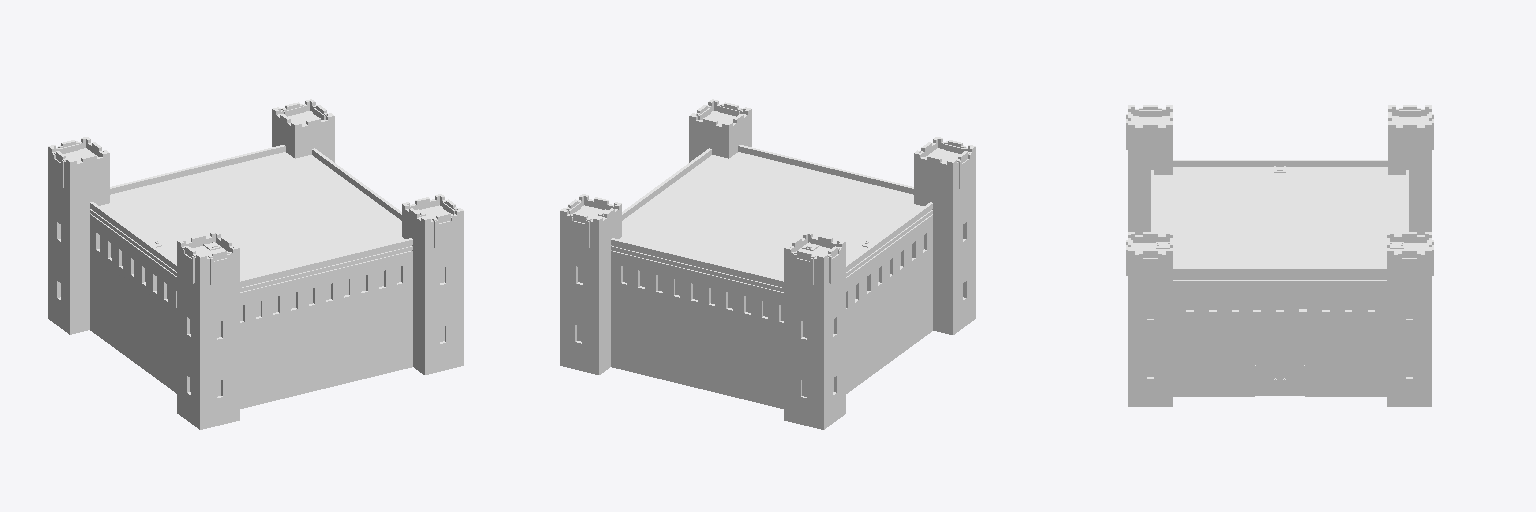
The model's file is TVS_VoxelKnights_Keep.obj.
The picture shows the model from 3 angles: view 1: azimuth 30°, elevation 25°; view 2: azimuth 150°, elevation 25°; view 3: azimuth 270°, elevation 25°; orthographic projection.
Parts seen in each view (by area): view 1: ObjObject; view 2: ObjObject; view 3: ObjObject.
Boxes of the visible parts, <box> form: ObjObject: <box>48,99,463,429</box>; ObjObject: <box>560,99,975,429</box>; ObjObject: <box>1126,105,1433,406</box>.
Bounding box in the file's own units: 24.2 × 15 × 24.2.